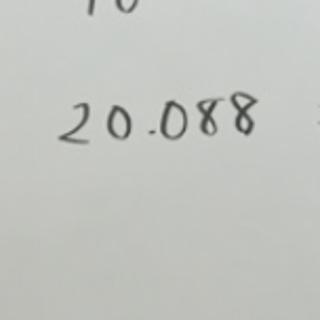.: (145, 128, 157, 141)
0: (159, 100, 189, 141), (106, 103, 132, 140)
2: (56, 101, 95, 145)
8: (228, 89, 258, 135), (197, 97, 221, 135)
